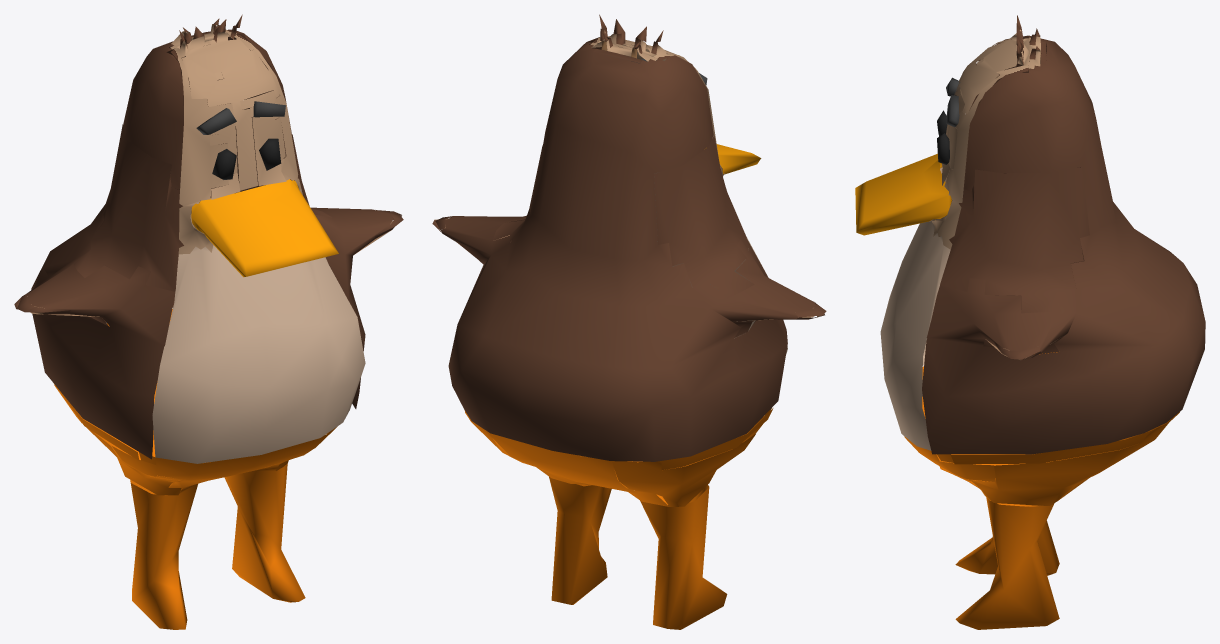
The model's file is ducky-lod2.glb.
3 renders of one model, left to right at view 1: azimuth 30°, elevation 25°; view 2: azimuth 150°, elevation 25°; view 3: azimuth 270°, elevation 25°, orthographic. The views are drawn at different scales.
Parts seen in each view (by area): view 1: ducky.002; view 2: ducky.002; view 3: ducky.002.
Part boxes in pixels (x1,y1,x2,y2): ducky.002: (14,14,403,629); ducky.002: (432,14,826,629); ducky.002: (855,15,1205,629).
Bounding box in the file's own units: 13.09 × 18.7 × 10.43.
Materials: 1 (1 with a texture image).
